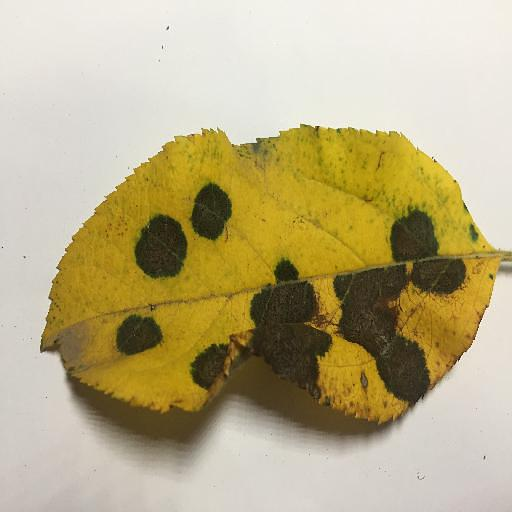Brown_Spot: (330, 278, 425, 407), (253, 273, 323, 396), (393, 216, 462, 291), (138, 223, 179, 270), (195, 193, 228, 236), (118, 315, 153, 349), (193, 350, 223, 388)
